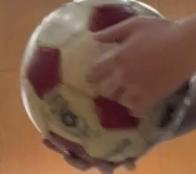Sports-Ball: (32, 0, 181, 159)
